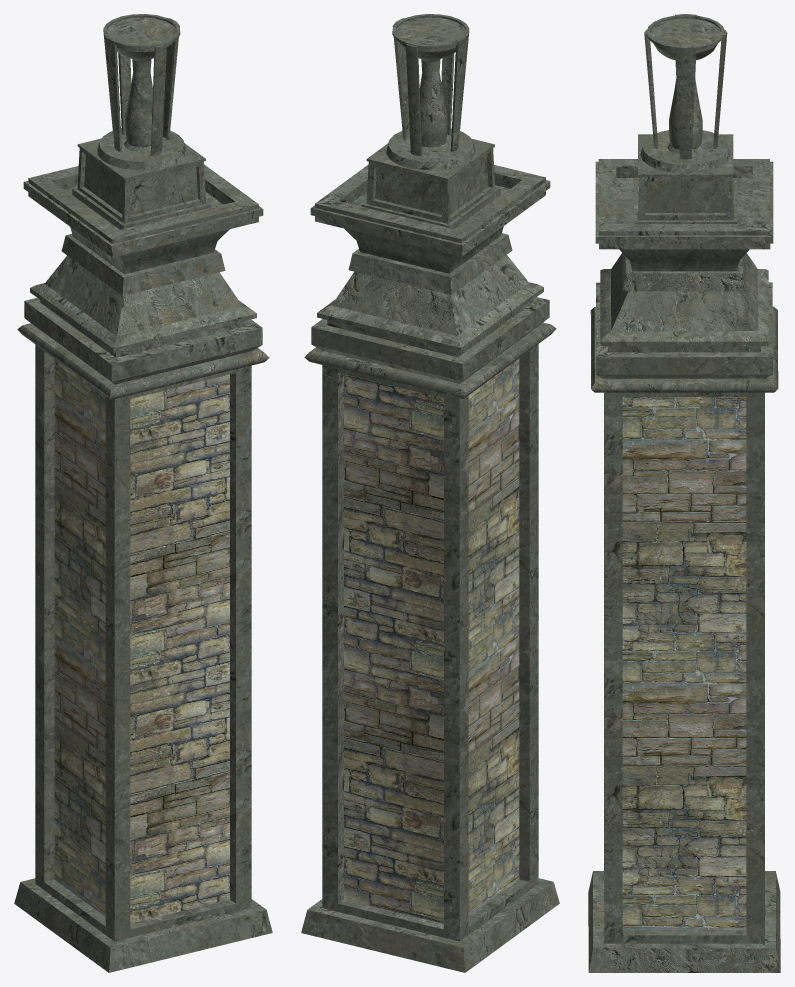
File: fbxPillar.fbx
The picture shows the model from 3 angles, left to right: view 1: azimuth 30°, elevation 25°; view 2: azimuth 150°, elevation 25°; view 3: azimuth 270°, elevation 25°; orthographic projection.
Visible parts, largest first — view 1: pillar; view 2: pillar; view 3: pillar.
Boxes of the visible parts, x1,y1,x2,y2 form: pillar: (14,14,272,972); pillar: (301,14,559,972); pillar: (588,14,780,972).
Bounding box in the file's own units: 0.6965 × 3.6 × 0.6967.
Materials: 2 (2 with a texture image).
